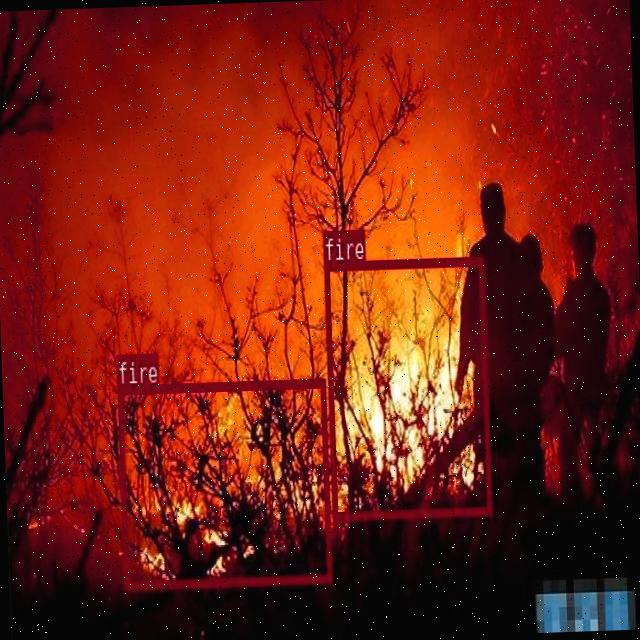fire: (116, 377, 330, 587), (323, 256, 491, 518)
